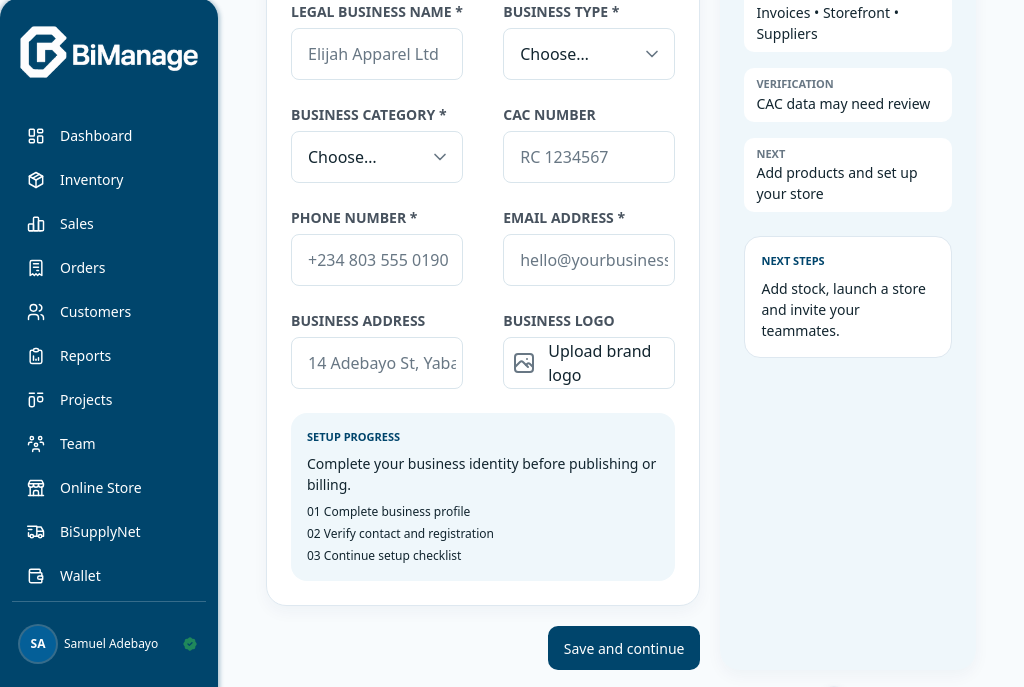
Scenario: business identity (02.03) and checklist (02.05) › required fields are enforced before saving
(page scrolled)
What coordinates should you click on to do the following:
click the button "Save and continue"
I would click on:
 (624, 648)
Its box is [548,626,700,670].
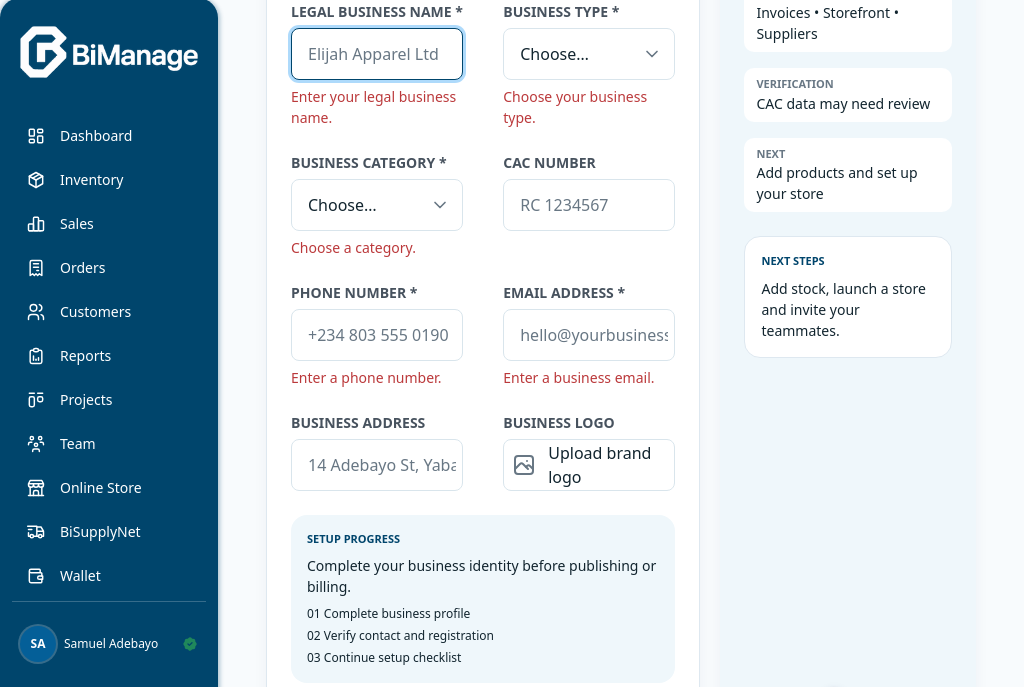
Check: the text "Enter your legal business name." is shown, box [291,86,463,128]
